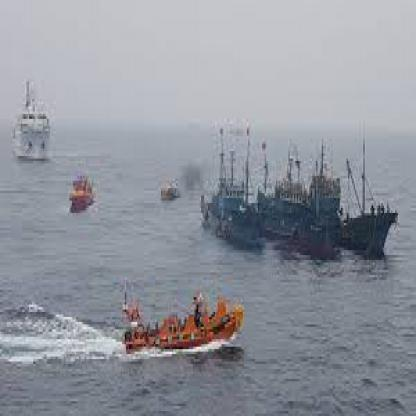fish-b: (254, 134, 345, 267), (341, 126, 408, 280), (203, 116, 262, 252)
